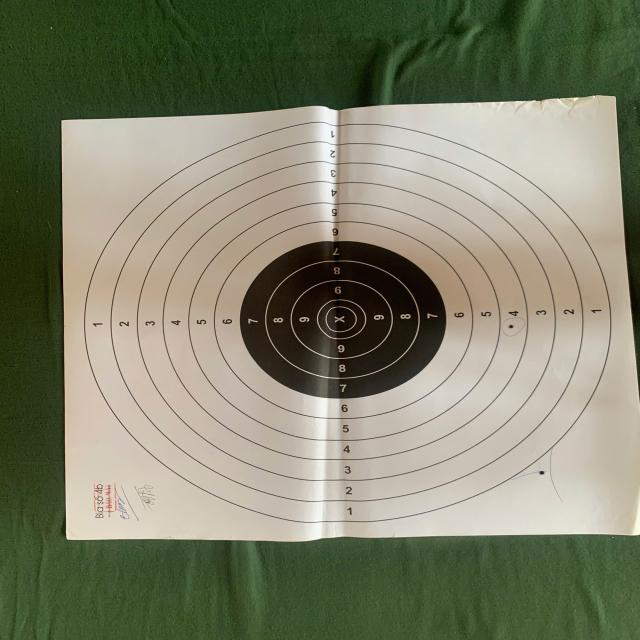bullet: (539, 470, 546, 475), (508, 324, 514, 328)
target: (62, 96, 640, 541)
